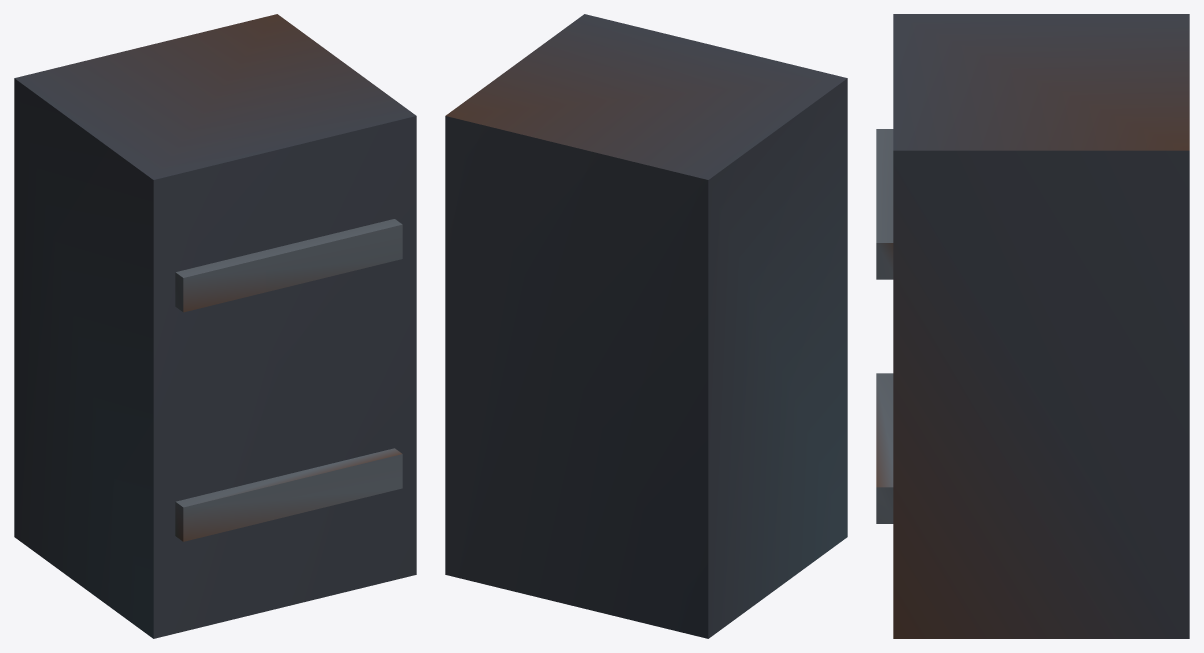
The model's file is crate_tall.glb.
3 views of the same model, side by side, from view 1: azimuth 30°, elevation 25°; view 2: azimuth 150°, elevation 25°; view 3: azimuth 270°, elevation 25° (orthographic). The views are drawn at different scales.
Parts seen in each view (by area): view 1: crate_tall; view 2: crate_tall; view 3: crate_tall.
Part boxes in pixels (x1,y1,x2,y2): crate_tall: [14, 14, 416, 638]; crate_tall: [445, 14, 847, 638]; crate_tall: [876, 14, 1189, 638].
Bounding box in the file's own units: 24 × 40 × 23.25.
